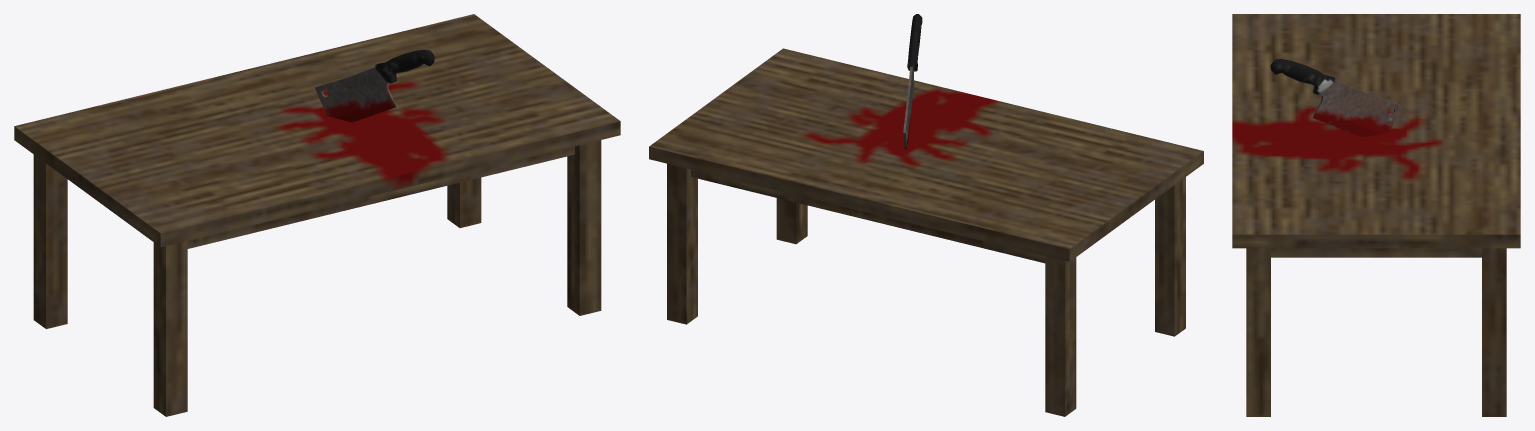
File: Table.fbx
The picture shows the model from 3 angles, left to right: view 1: azimuth 30°, elevation 25°; view 2: azimuth 150°, elevation 25°; view 3: azimuth 270°, elevation 25°; orthographic projection. The views are drawn at different scales.
Visible parts, largest first — view 1: Table, Cleaver; view 2: Table, Cleaver; view 3: Table, Cleaver.
Part boxes in pixels (left/top/right/bottom): Table: left=14, top=14, right=620, bottom=416; Cleaver: left=315, top=49, right=434, bottom=122; Table: left=649, top=48, right=1203, bottom=416; Cleaver: left=903, top=14, right=922, bottom=149; Table: left=1232, top=14, right=1520, bottom=416; Cleaver: left=1270, top=59, right=1402, bottom=137.
Size of what is drawn, in the model's own units: 156 by 93.17 by 86.31.
